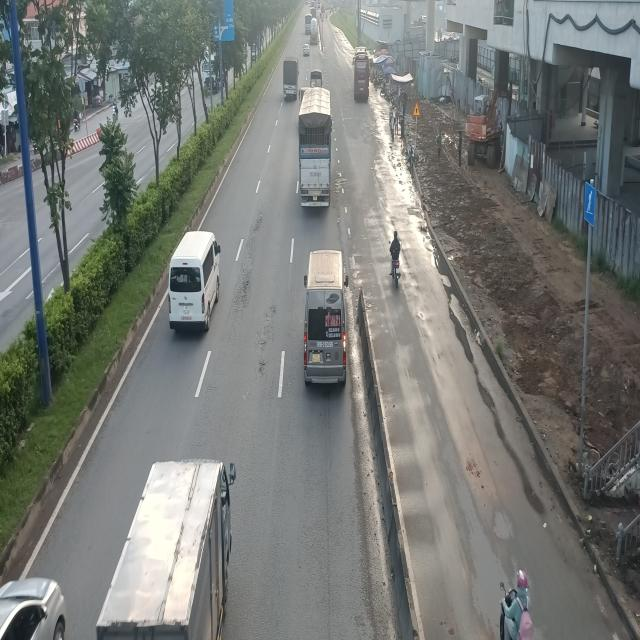coach: (354, 46, 371, 99)
truck: (81, 461, 236, 639), (282, 58, 299, 102)
van: (305, 248, 353, 386), (169, 230, 225, 334), (299, 89, 336, 213)
